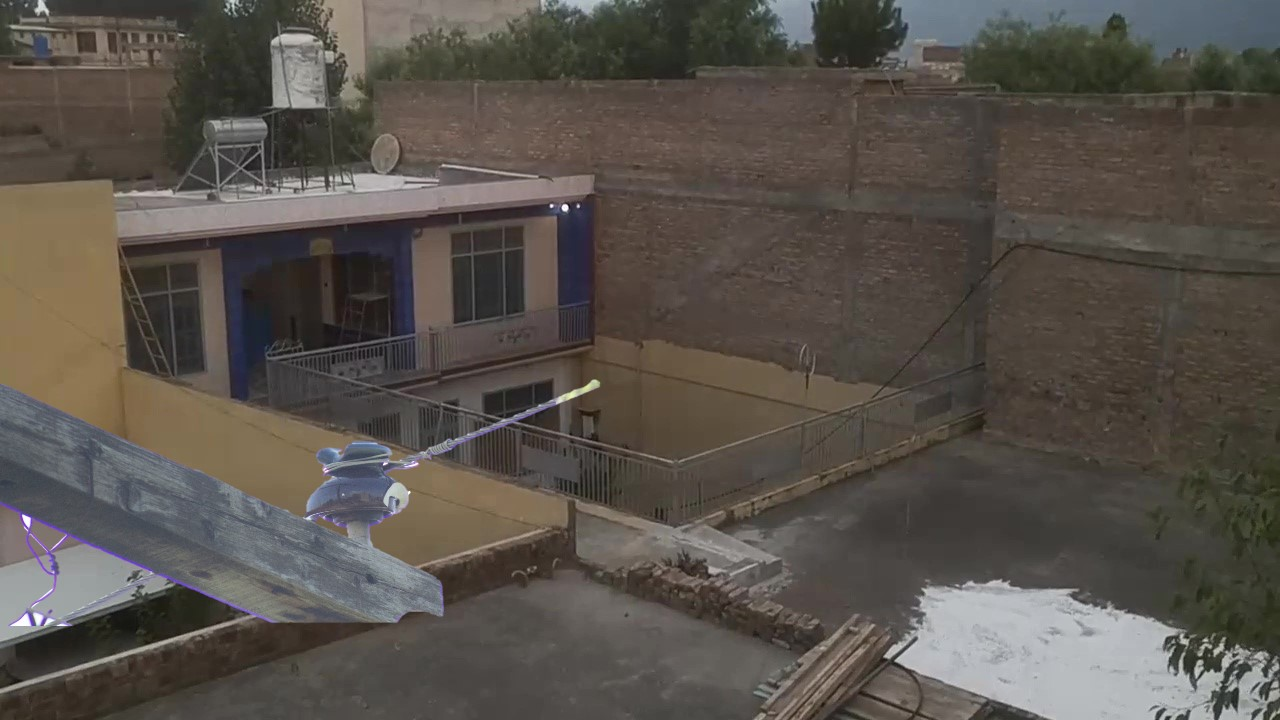defect_pin: (301, 435, 418, 533)
